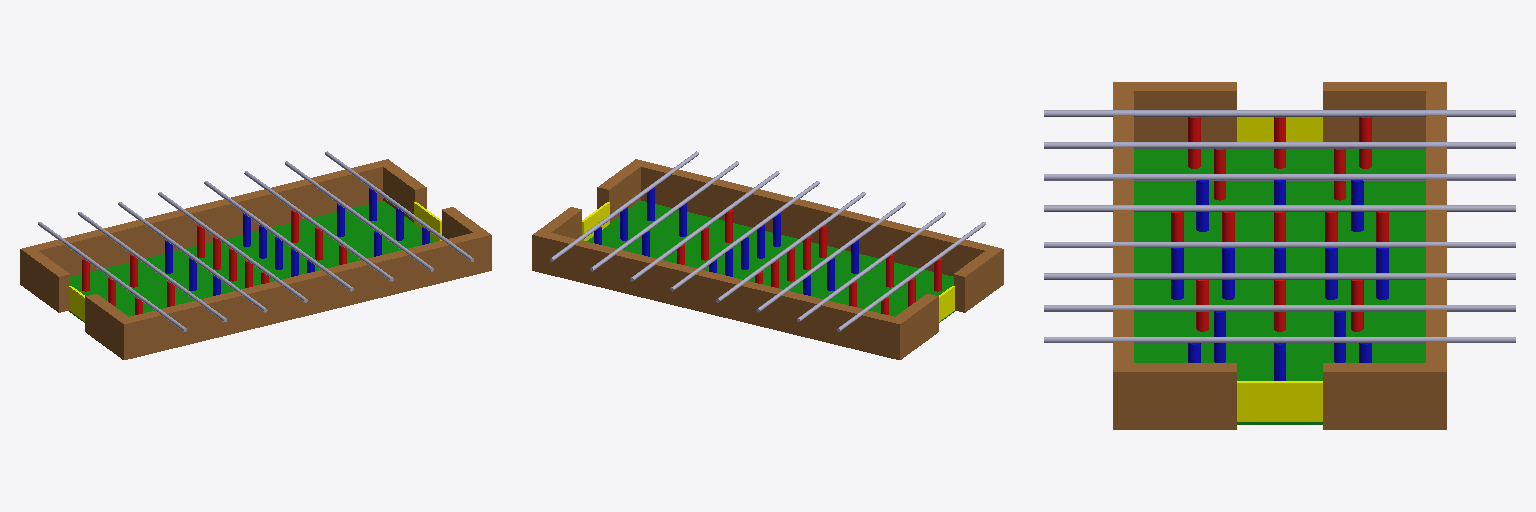
--- Facts derived from the render (not from the file) ---
3 views of the same robot in one strip: view 1: azimuth 30°, elevation 25°; view 2: azimuth 150°, elevation 25°; view 3: azimuth 270°, elevation 25° (orthographic).
Robot: foosball_table_tuned_v2 — 45 links, 44 joints (8 continuous, 8 prismatic, 28 fixed); root link base_link; default pose: all joints at 0.
Visible links, largest first — view 1: base_link, rod_5_link, rod_1_link, rod_4_link, rod_6_link, rod_2_link, rod_3_link, rod_7_link, rod_8_link; view 2: base_link, rod_5_link, rod_1_link, rod_6_link, rod_4_link, rod_2_link, rod_3_link, rod_7_link, rod_8_link; view 3: base_link, goal_sensor_B_link, rod_1_link, rod_2_link, rod_4_link, rod_6_link, rod_7_link, rod_3_link, rod_5_link, rod_8_link, goal_sensor_A_link, p5_4 (+15 smaller).
Link boxes in pixels (x1,y1,x2,y2): base_link: (20, 159, 491, 359); rod_5_link: (204, 181, 353, 291); rod_1_link: (38, 222, 186, 331); rod_4_link: (158, 192, 307, 302); rod_6_link: (244, 171, 393, 281); rod_2_link: (78, 212, 226, 321); rod_3_link: (118, 202, 267, 312); rod_7_link: (285, 161, 433, 271); rod_8_link: (325, 151, 473, 261); base_link: (532, 159, 1003, 359); rod_5_link: (670, 181, 819, 291); rod_1_link: (837, 222, 985, 331); rod_6_link: (630, 171, 779, 281); rod_4_link: (716, 192, 865, 302); rod_2_link: (797, 212, 945, 321); rod_3_link: (756, 202, 905, 312); rod_7_link: (590, 161, 738, 271); rod_8_link: (550, 151, 698, 261); base_link: (1113, 82, 1446, 429); goal_sensor_B_link: (1237, 381, 1322, 421); rod_1_link: (1044, 110, 1515, 116); rod_2_link: (1044, 142, 1515, 148); rod_4_link: (1044, 205, 1515, 211); rod_6_link: (1044, 273, 1515, 279); rod_7_link: (1044, 305, 1515, 311); rod_3_link: (1044, 174, 1515, 180); rod_5_link: (1044, 242, 1515, 247); rod_8_link: (1044, 337, 1515, 342); goal_sensor_A_link: (1237, 117, 1322, 141); p5_4: (1376, 248, 1388, 299).
Size in the robot's own frame: 1.6 by 1.1 by 0.168 metres.
Geometry: primitives only (box / cylinder / sphere), no mesh files.

robot.urdf — foosball_table_tuned_v2:
<?xml version="1.0"?>
<robot name="foosball_table_tuned_v2">

  <!-- ========================================================== -->
  <!-- 0. 材質定義 -->
  <!-- ========================================================== -->
  <material name="field_green"><color rgba="0.1 0.6 0.1 1.0"/></material>
  <material name="wood_texture"><color rgba="0.65 0.45 0.25 1.0"/></material>
  <material name="rod_metal"><color rgba="0.7 0.7 0.8 1.0"/></material>
  <material name="team_a_red"><color rgba="0.9 0.1 0.1 1.0"/></material>
  <material name="team_b_blue"><color rgba="0.1 0.1 0.9 1.0"/></material>
  <material name="goal_sensor_mat"><color rgba="1 1 0 0.3"/></material>

  <!-- ========================================================== -->
  <!-- 1. 桌體結構 (Table Base) [MODIFIED: Extended for Goal Buffer] -->
  <!-- ========================================================== -->
  <link name="base_link">
    <!-- 地板 (Static, Mass=0) [MODIFIED: Length increased to 1.5] -->
    <visual>
      <origin xyz="0 0 0"/>
      <geometry><box size="1.5 0.68 0.02"/></geometry>
      <material name="field_green"/>
    </visual>
    <collision>
      <origin xyz="0 0 0"/>
      <geometry><box size="1.5 0.68 0.02"/></geometry>
    </collision>

    <!-- 長邊牆壁 (+Y) [MODIFIED: Length increased to 1.6] -->
    <visual>
      <origin xyz="0 0.365 0.075"/>
      <geometry><box size="1.6 0.05 0.15"/></geometry>
      <material name="wood_texture"/>
    </visual>
    <collision>
      <origin xyz="0 0.365 0.075"/>
      <geometry><box size="1.6 0.05 0.15"/></geometry>
    </collision>

    <!-- 長邊牆壁 (-Y) [MODIFIED: Length increased to 1.6] -->
    <visual>
      <origin xyz="0 -0.365 0.075"/>
      <geometry><box size="1.6 0.05 0.15"/></geometry>
      <material name="wood_texture"/>
    </visual>
    <collision>
      <origin xyz="0 -0.365 0.075"/>
      <geometry><box size="1.6 0.05 0.15"/></geometry>
    </collision>

    <!-- 角落塊 (End Walls) [MODIFIED: Moved outward to +/- 0.775] -->
    <!-- Front Right -->
    <visual><origin xyz="0.775 0.22 0.075"/><geometry><box size="0.05 0.24 0.15"/></geometry><material name="wood_texture"/></visual>
    <collision><origin xyz="0.775 0.22 0.075"/><geometry><box size="0.05 0.24 0.15"/></geometry></collision>
    
    <!-- Front Left -->
    <visual><origin xyz="0.775 -0.22 0.075"/><geometry><box size="0.05 0.24 0.15"/></geometry><material name="wood_texture"/></visual>
    <collision><origin xyz="0.775 -0.22 0.075"/><geometry><box size="0.05 0.24 0.15"/></geometry></collision>

    <!-- Back Right -->
    <visual><origin xyz="-0.775 0.22 0.075"/><geometry><box size="0.05 0.24 0.15"/></geometry><material name="wood_texture"/></visual>
    <collision><origin xyz="-0.775 0.22 0.075"/><geometry><box size="0.05 0.24 0.15"/></geometry></collision>

    <!-- Back Left -->
    <visual><origin xyz="-0.775 -0.22 0.075"/><geometry><box size="0.05 0.24 0.15"/></geometry><material name="wood_texture"/></visual>
    <collision><origin xyz="-0.775 -0.22 0.075"/><geometry><box size="0.05 0.24 0.15"/></geometry></collision>

    <inertial>
      <mass value="0"/>
      <inertia ixx="0" ixy="0" ixz="0" iyy="0" iyz="0" izz="0"/>
    </inertial>
  </link>

  <!-- ========================================================== -->
  <!-- 2. 球門感測器 (Goal Sensors) [MODIFIED: Moved to +/- 0.75] -->
  <!-- ========================================================== -->
  <!-- Team A Goal (Left side) -->
  <joint name="goal_sensor_A_joint" type="fixed">
    <parent link="base_link"/>
    <child link="goal_sensor_A_link"/>
    <origin xyz="-0.75 0 0.05"/>
  </joint>
  <link name="goal_sensor_A_link">
    <visual><geometry><box size="0.01 0.2 0.1"/></geometry><material name="goal_sensor_mat"/></visual>
    <inertial><mass value="0.001"/><inertia ixx="1e-6" ixy="0" ixz="0" iyy="1e-6" iyz="0" izz="1e-6"/></inertial>
  </link>

  <!-- Team B Goal (Right side) -->
  <joint name="goal_sensor_B_joint" type="fixed">
    <parent link="base_link"/>
    <child link="goal_sensor_B_link"/>
    <origin xyz="0.75 0 0.05"/>
  </joint>
  <link name="goal_sensor_B_link">
    <visual><geometry><box size="0.01 0.2 0.1"/></geometry><material name="goal_sensor_mat"/></visual>
    <inertial><mass value="0.001"/><inertia ixx="1e-6" ixy="0" ixz="0" iyy="1e-6" iyz="0" izz="1e-6"/></inertial>
  </link>

  <!-- ========================================================== -->
  <!-- 3. ROD MACROS & PLAYERS (UNCHANGED) -->
  <!-- ========================================================== -->

  <!-- Rod 1: Team A Goalie (-0.55) [3-Man Goalie] -->
  <joint name="rod_1_slide" type="prismatic">
    <parent link="base_link"/> <child link="rod_1_dummy"/>
    <origin xyz="-0.625 0 0.15"/> <axis xyz="0 1 0"/>
    <limit lower="-0.12" upper="0.12" effort="100" velocity="10"/>
    <dynamics damping="0.5" friction="0.05"/>
  </joint>
  <link name="rod_1_dummy">
    <inertial><mass value="0.01"/><inertia ixx="1e-5" ixy="0" ixz="0" iyy="1e-5" iyz="0" izz="1e-5"/></inertial>
  </link>
  <joint name="rod_1_rotate" type="continuous">
    <parent link="rod_1_dummy"/> <child link="rod_1_link"/>
    <axis xyz="0 1 0"/>
    <dynamics damping="0.5" friction="0.05"/>
  </joint>
  <link name="rod_1_link">
    <visual><origin rpy="1.5708 0 0"/><geometry><cylinder radius="0.008" length="1.1"/></geometry><material name="rod_metal"/></visual>
    <collision><origin rpy="1.5708 0 0"/><geometry><cylinder radius="0.008" length="0.1"/></geometry></collision>
    <inertial><mass value="0.5"/><origin rpy="1.5708 0 0"/><inertia ixx="0.05" ixy="0" ixz="0" iyy="0.00002" iyz="0" izz="0.05"/></inertial>
  </link>
  <!-- Players P1 (Center, Left +0.20, Right -0.20) -->
  <joint name="p1_1_j" type="fixed"><parent link="rod_1_link"/><child link="p1_1"/><origin xyz="0 0 0"/></joint>
  <link name="p1_1"><visual><origin xyz="0 0 -0.07"/><geometry><cylinder radius="0.015" length="0.13"/></geometry><material name="team_a_red"/></visual><collision><origin xyz="0 0 -0.07"/><geometry><cylinder radius="0.015" length="0.13"/></geometry></collision><inertial><mass value="0.1"/><origin xyz="0 0 -0.07"/><inertia ixx="0.00015" ixy="0" ixz="0" iyy="0.00015" iyz="0" izz="0.00002"/></inertial></link>
  <joint name="p1_2_j" type="fixed"><parent link="rod_1_link"/><child link="p1_2"/><origin xyz="0 0.20 0"/></joint>
  <link name="p1_2"><visual><origin xyz="0 0 -0.07"/><geometry><cylinder radius="0.015" length="0.13"/></geometry><material name="team_a_red"/></visual><collision><origin xyz="0 0 -0.07"/><geometry><cylinder radius="0.015" length="0.13"/></geometry></collision><inertial><mass value="0.1"/><origin xyz="0 0 -0.07"/><inertia ixx="0.00015" ixy="0" ixz="0" iyy="0.00015" iyz="0" izz="0.00002"/></inertial></link>
  <joint name="p1_3_j" type="fixed"><parent link="rod_1_link"/><child link="p1_3"/><origin xyz="0 -0.20 0"/></joint>
  <link name="p1_3"><visual><origin xyz="0 0 -0.07"/><geometry><cylinder radius="0.015" length="0.13"/></geometry><material name="team_a_red"/></visual><collision><origin xyz="0 0 -0.07"/><geometry><cylinder radius="0.015" length="0.13"/></geometry></collision><inertial><mass value="0.1"/><origin xyz="0 0 -0.07"/><inertia ixx="0.00015" ixy="0" ixz="0" iyy="0.00015" iyz="0" izz="0.00002"/></inertial></link>


  <!-- Rod 2: Team A Defenders (-0.40) [Narrow Spacing] -->
  <joint name="rod_2_slide" type="prismatic">
    <parent link="base_link"/> <child link="rod_2_dummy"/>
    <origin xyz="-0.45 0 0.15"/> <axis xyz="0 1 0"/>
    <limit lower="-0.18" upper="0.18" effort="100" velocity="10"/>
    <dynamics damping="0.5" friction="0.05"/>
  </joint>
  <link name="rod_2_dummy"><inertial><mass value="0.01"/><inertia ixx="1e-5" ixy="0" ixz="0" iyy="1e-5" iyz="0" izz="1e-5"/></inertial></link>
  <joint name="rod_2_rotate" type="continuous">
    <parent link="rod_2_dummy"/> <child link="rod_2_link"/>
    <axis xyz="0 1 0"/>
    <dynamics damping="0.5" friction="0.05"/>
  </joint>
  <link name="rod_2_link">
    <visual><origin rpy="1.5708 0 0"/><geometry><cylinder radius="0.008" length="1.1"/></geometry><material name="rod_metal"/></visual>
    <collision><origin rpy="1.5708 0 0"/><geometry><cylinder radius="0.008" length="0.1"/></geometry></collision>
    <inertial><mass value="0.5"/><origin rpy="1.5708 0 0"/><inertia ixx="0.05" ixy="0" ixz="0" iyy="0.00002" iyz="0" izz="0.05"/></inertial>
  </link>
  <joint name="p2_1_j" type="fixed"><parent link="rod_2_link"/><child link="p2_1"/><origin xyz="0 0.14 0"/></joint>
  <link name="p2_1"><visual><origin xyz="0 0 -0.07"/><geometry><cylinder radius="0.015" length="0.13"/></geometry><material name="team_a_red"/></visual><collision><origin xyz="0 0 -0.07"/><geometry><cylinder radius="0.015" length="0.13"/></geometry></collision><inertial><mass value="0.1"/><origin xyz="0 0 -0.07"/><inertia ixx="0.00015" ixy="0" ixz="0" iyy="0.00015" iyz="0" izz="0.00002"/></inertial></link>
  <joint name="p2_2_j" type="fixed"><parent link="rod_2_link"/><child link="p2_2"/><origin xyz="0 -0.14 0"/></joint>
  <link name="p2_2"><visual><origin xyz="0 0 -0.07"/><geometry><cylinder radius="0.015" length="0.13"/></geometry><material name="team_a_red"/></visual><collision><origin xyz="0 0 -0.07"/><geometry><cylinder radius="0.015" length="0.13"/></geometry></collision><inertial><mass value="0.1"/><origin xyz="0 0 -0.07"/><inertia ixx="0.00015" ixy="0" ixz="0" iyy="0.00015" iyz="0" izz="0.00002"/></inertial></link>


  <!-- Rod 3: Team B Forwards (-0.25) [ORIGINAL] -->
  <joint name="rod_3_slide" type="prismatic">
    <parent link="base_link"/> <child link="rod_3_dummy"/>
    <origin xyz="-0.275 0 0.15"/> <axis xyz="0 1 0"/>
    <limit lower="-0.12" upper="0.12" effort="100" velocity="10"/>
    <dynamics damping="0.5" friction="0.05"/>
  </joint>
  <link name="rod_3_dummy"><inertial><mass value="0.01"/><inertia ixx="1e-5" ixy="0" ixz="0" iyy="1e-5" iyz="0" izz="1e-5"/></inertial></link>
  <joint name="rod_3_rotate" type="continuous">
    <parent link="rod_3_dummy"/> <child link="rod_3_link"/>
    <axis xyz="0 1 0"/>
    <dynamics damping="0.5" friction="0.05"/>
  </joint>
  <link name="rod_3_link">
    <visual><origin rpy="1.5708 0 0"/><geometry><cylinder radius="0.008" length="1.1"/></geometry><material name="rod_metal"/></visual>
    <collision><origin rpy="1.5708 0 0"/><geometry><cylinder radius="0.008" length="0.1"/></geometry></collision>
    <inertial><mass value="0.5"/><origin rpy="1.5708 0 0"/><inertia ixx="0.05" ixy="0" ixz="0" iyy="0.00002" iyz="0" izz="0.05"/></inertial>
  </link>
  <joint name="p3_1_j" type="fixed"><parent link="rod_3_link"/><child link="p3_1"/><origin xyz="0 0 0"/></joint>
  <link name="p3_1"><visual><origin xyz="0 0 -0.07"/><geometry><cylinder radius="0.015" length="0.13"/></geometry><material name="team_b_blue"/></visual><collision><origin xyz="0 0 -0.07"/><geometry><cylinder radius="0.015" length="0.13"/></geometry></collision><inertial><mass value="0.1"/><origin xyz="0 0 -0.07"/><inertia ixx="0.00015" ixy="0" ixz="0" iyy="0.00015" iyz="0" izz="0.00002"/></inertial></link>
  <joint name="p3_2_j" type="fixed"><parent link="rod_3_link"/><child link="p3_2"/><origin xyz="0 0.18 0"/></joint>
  <link name="p3_2"><visual><origin xyz="0 0 -0.07"/><geometry><cylinder radius="0.015" length="0.13"/></geometry><material name="team_b_blue"/></visual><collision><origin xyz="0 0 -0.07"/><geometry><cylinder radius="0.015" length="0.13"/></geometry></collision><inertial><mass value="0.1"/><origin xyz="0 0 -0.07"/><inertia ixx="0.00015" ixy="0" ixz="0" iyy="0.00015" iyz="0" izz="0.00002"/></inertial></link>
  <joint name="p3_3_j" type="fixed"><parent link="rod_3_link"/><child link="p3_3"/><origin xyz="0 -0.18 0"/></joint>
  <link name="p3_3"><visual><origin xyz="0 0 -0.07"/><geometry><cylinder radius="0.015" length="0.13"/></geometry><material name="team_b_blue"/></visual><collision><origin xyz="0 0 -0.07"/><geometry><cylinder radius="0.015" length="0.13"/></geometry></collision><inertial><mass value="0.1"/><origin xyz="0 0 -0.07"/><inertia ixx="0.00015" ixy="0" ixz="0" iyy="0.00015" iyz="0" izz="0.00002"/></inertial></link>

  <!-- Rod 4: Team A Midfield (-0.10) [ORIGINAL] -->
  <joint name="rod_4_slide" type="prismatic">
    <parent link="base_link"/> <child link="rod_4_dummy"/>
    <origin xyz="-0.10 0 0.15"/> <axis xyz="0 1 0"/>
    <limit lower="-0.08" upper="0.08" effort="100" velocity="10"/>
    <dynamics damping="0.5" friction="0.05"/>
  </joint>
  <link name="rod_4_dummy"><inertial><mass value="0.01"/><inertia ixx="1e-5" ixy="0" ixz="0" iyy="1e-5" iyz="0" izz="1e-5"/></inertial></link>
  <joint name="rod_4_rotate" type="continuous">
    <parent link="rod_4_dummy"/> <child link="rod_4_link"/>
    <axis xyz="0 1 0"/>
    <dynamics damping="0.5" friction="0.05"/>
  </joint>
  <link name="rod_4_link">
    <visual><origin rpy="1.5708 0 0"/><geometry><cylinder radius="0.008" length="1.1"/></geometry><material name="rod_metal"/></visual>
    <collision><origin rpy="1.5708 0 0"/><geometry><cylinder radius="0.008" length="0.1"/></geometry></collision>
    <inertial><mass value="0.5"/><origin rpy="1.5708 0 0"/><inertia ixx="0.05" ixy="0" ixz="0" iyy="0.00002" iyz="0" izz="0.05"/></inertial>
  </link>
  <joint name="p4_1_j" type="fixed"><parent link="rod_4_link"/><child link="p4_1"/><origin xyz="0 0 0"/></joint>
  <link name="p4_1"><visual><origin xyz="0 0 -0.07"/><geometry><cylinder radius="0.015" length="0.13"/></geometry><material name="team_a_red"/></visual><collision><origin xyz="0 0 -0.07"/><geometry><cylinder radius="0.015" length="0.13"/></geometry></collision><inertial><mass value="0.1"/><origin xyz="0 0 -0.07"/><inertia ixx="0.00015" ixy="0" ixz="0" iyy="0.00015" iyz="0" izz="0.00002"/></inertial></link>
  <joint name="p4_2_j" type="fixed"><parent link="rod_4_link"/><child link="p4_2"/><origin xyz="0 0.12 0"/></joint>
  <link name="p4_2"><visual><origin xyz="0 0 -0.07"/><geometry><cylinder radius="0.015" length="0.13"/></geometry><material name="team_a_red"/></visual><collision><origin xyz="0 0 -0.07"/><geometry><cylinder radius="0.015" length="0.13"/></geometry></collision><inertial><mass value="0.1"/><origin xyz="0 0 -0.07"/><inertia ixx="0.00015" ixy="0" ixz="0" iyy="0.00015" iyz="0" izz="0.00002"/></inertial></link>
  <joint name="p4_3_j" type="fixed"><parent link="rod_4_link"/><child link="p4_3"/><origin xyz="0 -0.12 0"/></joint>
  <link name="p4_3"><visual><origin xyz="0 0 -0.07"/><geometry><cylinder radius="0.015" length="0.13"/></geometry><material name="team_a_red"/></visual><collision><origin xyz="0 0 -0.07"/><geometry><cylinder radius="0.015" length="0.13"/></geometry></collision><inertial><mass value="0.1"/><origin xyz="0 0 -0.07"/><inertia ixx="0.00015" ixy="0" ixz="0" iyy="0.00015" iyz="0" izz="0.00002"/></inertial></link>
  <joint name="p4_4_j" type="fixed"><parent link="rod_4_link"/><child link="p4_4"/><origin xyz="0 0.24 0"/></joint>
  <link name="p4_4"><visual><origin xyz="0 0 -0.07"/><geometry><cylinder radius="0.015" length="0.13"/></geometry><material name="team_a_red"/></visual><collision><origin xyz="0 0 -0.07"/><geometry><cylinder radius="0.015" length="0.13"/></geometry></collision><inertial><mass value="0.1"/><origin xyz="0 0 -0.07"/><inertia ixx="0.00015" ixy="0" ixz="0" iyy="0.00015" iyz="0" izz="0.00002"/></inertial></link>
  <joint name="p4_5_j" type="fixed"><parent link="rod_4_link"/><child link="p4_5"/><origin xyz="0 -0.24 0"/></joint>
  <link name="p4_5"><visual><origin xyz="0 0 -0.07"/><geometry><cylinder radius="0.015" length="0.13"/></geometry><material name="team_a_red"/></visual><collision><origin xyz="0 0 -0.07"/><geometry><cylinder radius="0.015" length="0.13"/></geometry></collision><inertial><mass value="0.1"/><origin xyz="0 0 -0.07"/><inertia ixx="0.00015" ixy="0" ixz="0" iyy="0.00015" iyz="0" izz="0.00002"/></inertial></link>

  <!-- Rod 5: Team B Midfield (0.10) [ORIGINAL] -->
  <joint name="rod_5_slide" type="prismatic">
    <parent link="base_link"/> <child link="rod_5_dummy"/>
    <origin xyz="0.10 0 0.15"/> <axis xyz="0 1 0"/>
    <limit lower="-0.08" upper="0.08" effort="100" velocity="10"/>
    <dynamics damping="0.5" friction="0.05"/>
  </joint>
  <link name="rod_5_dummy"><inertial><mass value="0.01"/><inertia ixx="1e-5" ixy="0" ixz="0" iyy="1e-5" iyz="0" izz="1e-5"/></inertial></link>
  <joint name="rod_5_rotate" type="continuous">
    <parent link="rod_5_dummy"/> <child link="rod_5_link"/>
    <axis xyz="0 1 0"/>
    <dynamics damping="0.5" friction="0.05"/>
  </joint>
  <link name="rod_5_link">
    <visual><origin rpy="1.5708 0 0"/><geometry><cylinder radius="0.008" length="1.1"/></geometry><material name="rod_metal"/></visual>
    <collision><origin rpy="1.5708 0 0"/><geometry><cylinder radius="0.008" length="0.1"/></geometry></collision>
    <inertial><mass value="0.5"/><origin rpy="1.5708 0 0"/><inertia ixx="0.05" ixy="0" ixz="0" iyy="0.00002" iyz="0" izz="0.05"/></inertial>
  </link>
  <joint name="p5_1_j" type="fixed"><parent link="rod_5_link"/><child link="p5_1"/><origin xyz="0 0 0"/></joint>
  <link name="p5_1"><visual><origin xyz="0 0 -0.07"/><geometry><cylinder radius="0.015" length="0.13"/></geometry><material name="team_b_blue"/></visual><collision><origin xyz="0 0 -0.07"/><geometry><cylinder radius="0.015" length="0.13"/></geometry></collision><inertial><mass value="0.1"/><origin xyz="0 0 -0.07"/><inertia ixx="0.00015" ixy="0" ixz="0" iyy="0.00015" iyz="0" izz="0.00002"/></inertial></link>
  <joint name="p5_2_j" type="fixed"><parent link="rod_5_link"/><child link="p5_2"/><origin xyz="0 0.12 0"/></joint>
  <link name="p5_2"><visual><origin xyz="0 0 -0.07"/><geometry><cylinder radius="0.015" length="0.13"/></geometry><material name="team_b_blue"/></visual><collision><origin xyz="0 0 -0.07"/><geometry><cylinder radius="0.015" length="0.13"/></geometry></collision><inertial><mass value="0.1"/><origin xyz="0 0 -0.07"/><inertia ixx="0.00015" ixy="0" ixz="0" iyy="0.00015" iyz="0" izz="0.00002"/></inertial></link>
  <joint name="p5_3_j" type="fixed"><parent link="rod_5_link"/><child link="p5_3"/><origin xyz="0 -0.12 0"/></joint>
  <link name="p5_3"><visual><origin xyz="0 0 -0.07"/><geometry><cylinder radius="0.015" length="0.13"/></geometry><material name="team_b_blue"/></visual><collision><origin xyz="0 0 -0.07"/><geometry><cylinder radius="0.015" length="0.13"/></geometry></collision><inertial><mass value="0.1"/><origin xyz="0 0 -0.07"/><inertia ixx="0.00015" ixy="0" ixz="0" iyy="0.00015" iyz="0" izz="0.00002"/></inertial></link>
  <joint name="p5_4_j" type="fixed"><parent link="rod_5_link"/><child link="p5_4"/><origin xyz="0 0.24 0"/></joint>
  <link name="p5_4"><visual><origin xyz="0 0 -0.07"/><geometry><cylinder radius="0.015" length="0.13"/></geometry><material name="team_b_blue"/></visual><collision><origin xyz="0 0 -0.07"/><geometry><cylinder radius="0.015" length="0.13"/></geometry></collision><inertial><mass value="0.1"/><origin xyz="0 0 -0.07"/><inertia ixx="0.00015" ixy="0" ixz="0" iyy="0.00015" iyz="0" izz="0.00002"/></inertial></link>
  <joint name="p5_5_j" type="fixed"><parent link="rod_5_link"/><child link="p5_5"/><origin xyz="0 -0.24 0"/></joint>
  <link name="p5_5"><visual><origin xyz="0 0 -0.07"/><geometry><cylinder radius="0.015" length="0.13"/></geometry><material name="team_b_blue"/></visual><collision><origin xyz="0 0 -0.07"/><geometry><cylinder radius="0.015" length="0.13"/></geometry></collision><inertial><mass value="0.1"/><origin xyz="0 0 -0.07"/><inertia ixx="0.00015" ixy="0" ixz="0" iyy="0.00015" iyz="0" izz="0.00002"/></inertial></link>

  <!-- Rod 6: Team A Forwards (0.25) [ORIGINAL] -->
  <joint name="rod_6_slide" type="prismatic">
    <parent link="base_link"/> <child link="rod_6_dummy"/>
    <origin xyz="0.275 0 0.15"/> <axis xyz="0 1 0"/>
    <limit lower="-0.12" upper="0.12" effort="100" velocity="10"/>
    <dynamics damping="0.5" friction="0.05"/>
  </joint>
  <link name="rod_6_dummy"><inertial><mass value="0.01"/><inertia ixx="1e-5" ixy="0" ixz="0" iyy="1e-5" iyz="0" izz="1e-5"/></inertial></link>
  <joint name="rod_6_rotate" type="continuous">
    <parent link="rod_6_dummy"/> <child link="rod_6_link"/>
    <axis xyz="0 1 0"/>
    <dynamics damping="0.5" friction="0.05"/>
  </joint>
  <link name="rod_6_link">
    <visual><origin rpy="1.5708 0 0"/><geometry><cylinder radius="0.008" length="1.1"/></geometry><material name="rod_metal"/></visual>
    <collision><origin rpy="1.5708 0 0"/><geometry><cylinder radius="0.008" length="0.1"/></geometry></collision>
    <inertial><mass value="0.5"/><origin rpy="1.5708 0 0"/><inertia ixx="0.05" ixy="0" ixz="0" iyy="0.00002" iyz="0" izz="0.05"/></inertial>
  </link>
  <joint name="p6_1_j" type="fixed"><parent link="rod_6_link"/><child link="p6_1"/><origin xyz="0 0 0"/></joint>
  <link name="p6_1"><visual><origin xyz="0 0 -0.07"/><geometry><cylinder radius="0.015" length="0.13"/></geometry><material name="team_a_red"/></visual><collision><origin xyz="0 0 -0.07"/><geometry><cylinder radius="0.015" length="0.13"/></geometry></collision><inertial><mass value="0.1"/><origin xyz="0 0 -0.07"/><inertia ixx="0.00015" ixy="0" ixz="0" iyy="0.00015" iyz="0" izz="0.00002"/></inertial></link>
  <joint name="p6_2_j" type="fixed"><parent link="rod_6_link"/><child link="p6_2"/><origin xyz="0 0.18 0"/></joint>
  <link name="p6_2"><visual><origin xyz="0 0 -0.07"/><geometry><cylinder radius="0.015" length="0.13"/></geometry><material name="team_a_red"/></visual><collision><origin xyz="0 0 -0.07"/><geometry><cylinder radius="0.015" length="0.13"/></geometry></collision><inertial><mass value="0.1"/><origin xyz="0 0 -0.07"/><inertia ixx="0.00015" ixy="0" ixz="0" iyy="0.00015" iyz="0" izz="0.00002"/></inertial></link>
  <joint name="p6_3_j" type="fixed"><parent link="rod_6_link"/><child link="p6_3"/><origin xyz="0 -0.18 0"/></joint>
  <link name="p6_3"><visual><origin xyz="0 0 -0.07"/><geometry><cylinder radius="0.015" length="0.13"/></geometry><material name="team_a_red"/></visual><collision><origin xyz="0 0 -0.07"/><geometry><cylinder radius="0.015" length="0.13"/></geometry></collision><inertial><mass value="0.1"/><origin xyz="0 0 -0.07"/><inertia ixx="0.00015" ixy="0" ixz="0" iyy="0.00015" iyz="0" izz="0.00002"/></inertial></link>

  <!-- Rod 7: Team B Defenders (0.40) [Narrow Spacing] -->
  <joint name="rod_7_slide" type="prismatic">
    <parent link="base_link"/> <child link="rod_7_dummy"/>
    <origin xyz="0.45 0 0.15"/> <axis xyz="0 1 0"/>
    <limit lower="-0.18" upper="0.18" effort="100" velocity="10"/>
    <dynamics damping="0.5" friction="0.05"/>
  </joint>
  <link name="rod_7_dummy"><inertial><mass value="0.01"/><inertia ixx="1e-5" ixy="0" ixz="0" iyy="1e-5" iyz="0" izz="1e-5"/></inertial></link>
  <joint name="rod_7_rotate" type="continuous">
    <parent link="rod_7_dummy"/> <child link="rod_7_link"/>
    <axis xyz="0 1 0"/>
    <dynamics damping="0.5" friction="0.05"/>
  </joint>
  <link name="rod_7_link">
    <visual><origin rpy="1.5708 0 0"/><geometry><cylinder radius="0.008" length="1.1"/></geometry><material name="rod_metal"/></visual>
    <collision><origin rpy="1.5708 0 0"/><geometry><cylinder radius="0.008" length="0.1"/></geometry></collision>
    <inertial><mass value="0.5"/><origin rpy="1.5708 0 0"/><inertia ixx="0.05" ixy="0" ixz="0" iyy="0.00002" iyz="0" izz="0.05"/></inertial>
  </link>
  <!-- Players P7 (Narrowed to +/- 0.14) -->
  <joint name="p7_1_j" type="fixed"><parent link="rod_7_link"/><child link="p7_1"/><origin xyz="0 0.14 0"/></joint>
  <link name="p7_1"><visual><origin xyz="0 0 -0.07"/><geometry><cylinder radius="0.015" length="0.13"/></geometry><material name="team_b_blue"/></visual><collision><origin xyz="0 0 -0.07"/><geometry><cylinder radius="0.015" length="0.13"/></geometry></collision><inertial><mass value="0.1"/><origin xyz="0 0 -0.07"/><inertia ixx="0.00015" ixy="0" ixz="0" iyy="0.00015" iyz="0" izz="0.00002"/></inertial></link>
  <joint name="p7_2_j" type="fixed"><parent link="rod_7_link"/><child link="p7_2"/><origin xyz="0 -0.14 0"/></joint>
  <link name="p7_2"><visual><origin xyz="0 0 -0.07"/><geometry><cylinder radius="0.015" length="0.13"/></geometry><material name="team_b_blue"/></visual><collision><origin xyz="0 0 -0.07"/><geometry><cylinder radius="0.015" length="0.13"/></geometry></collision><inertial><mass value="0.1"/><origin xyz="0 0 -0.07"/><inertia ixx="0.00015" ixy="0" ixz="0" iyy="0.00015" iyz="0" izz="0.00002"/></inertial></link>

  <!-- Rod 8: Team B Goalie (0.55) [3-Man Goalie] -->
  <joint name="rod_8_slide" type="prismatic">
    <parent link="base_link"/> <child link="rod_8_dummy"/>
    <origin xyz="0.625 0 0.15"/> <axis xyz="0 1 0"/>
    <limit lower="-0.12" upper="0.12" effort="100" velocity="10"/>
    <dynamics damping="0.5" friction="0.05"/>
  </joint>
  <link name="rod_8_dummy"><inertial><mass value="0.01"/><inertia ixx="1e-5" ixy="0" ixz="0" iyy="1e-5" iyz="0" izz="1e-5"/></inertial></link>
  <joint name="rod_8_rotate" type="continuous">
    <parent link="rod_8_dummy"/> <child link="rod_8_link"/>
    <axis xyz="0 1 0"/>
    <dynamics damping="0.5" friction="0.05"/>
  </joint>
  <link name="rod_8_link">
    <visual><origin rpy="1.5708 0 0"/><geometry><cylinder radius="0.008" length="1.1"/></geometry><material name="rod_metal"/></visual>
    <collision><origin rpy="1.5708 0 0"/><geometry><cylinder radius="0.008" length="0.1"/></geometry></collision>
    <inertial><mass value="0.5"/><origin rpy="1.5708 0 0"/><inertia ixx="0.05" ixy="0" ixz="0" iyy="0.00002" iyz="0" izz="0.05"/></inertial>
  </link>
  <!-- Players P8 (Center, Left +0.20, Right -0.20) -->
  <joint name="p8_1_j" type="fixed"><parent link="rod_8_link"/><child link="p8_1"/><origin xyz="0 0 0"/></joint>
  <link name="p8_1"><visual><origin xyz="0 0 -0.07"/><geometry><cylinder radius="0.015" length="0.13"/></geometry><material name="team_b_blue"/></visual><collision><origin xyz="0 0 -0.07"/><geometry><cylinder radius="0.015" length="0.13"/></geometry></collision><inertial><mass value="0.1"/><origin xyz="0 0 -0.07"/><inertia ixx="0.00015" ixy="0" ixz="0" iyy="0.00015" iyz="0" izz="0.00002"/></inertial></link>
  <joint name="p8_2_j" type="fixed"><parent link="rod_8_link"/><child link="p8_2"/><origin xyz="0 0.20 0"/></joint>
  <link name="p8_2"><visual><origin xyz="0 0 -0.07"/><geometry><cylinder radius="0.015" length="0.13"/></geometry><material name="team_b_blue"/></visual><collision><origin xyz="0 0 -0.07"/><geometry><cylinder radius="0.015" length="0.13"/></geometry></collision><inertial><mass value="0.1"/><origin xyz="0 0 -0.07"/><inertia ixx="0.00015" ixy="0" ixz="0" iyy="0.00015" iyz="0" izz="0.00002"/></inertial></link>
  <joint name="p8_3_j" type="fixed"><parent link="rod_8_link"/><child link="p8_3"/><origin xyz="0 -0.20 0"/></joint>
  <link name="p8_3"><visual><origin xyz="0 0 -0.07"/><geometry><cylinder radius="0.015" length="0.13"/></geometry><material name="team_b_blue"/></visual><collision><origin xyz="0 0 -0.07"/><geometry><cylinder radius="0.015" length="0.13"/></geometry></collision><inertial><mass value="0.1"/><origin xyz="0 0 -0.07"/><inertia ixx="0.00015" ixy="0" ixz="0" iyy="0.00015" iyz="0" izz="0.00002"/></inertial></link>

</robot>
